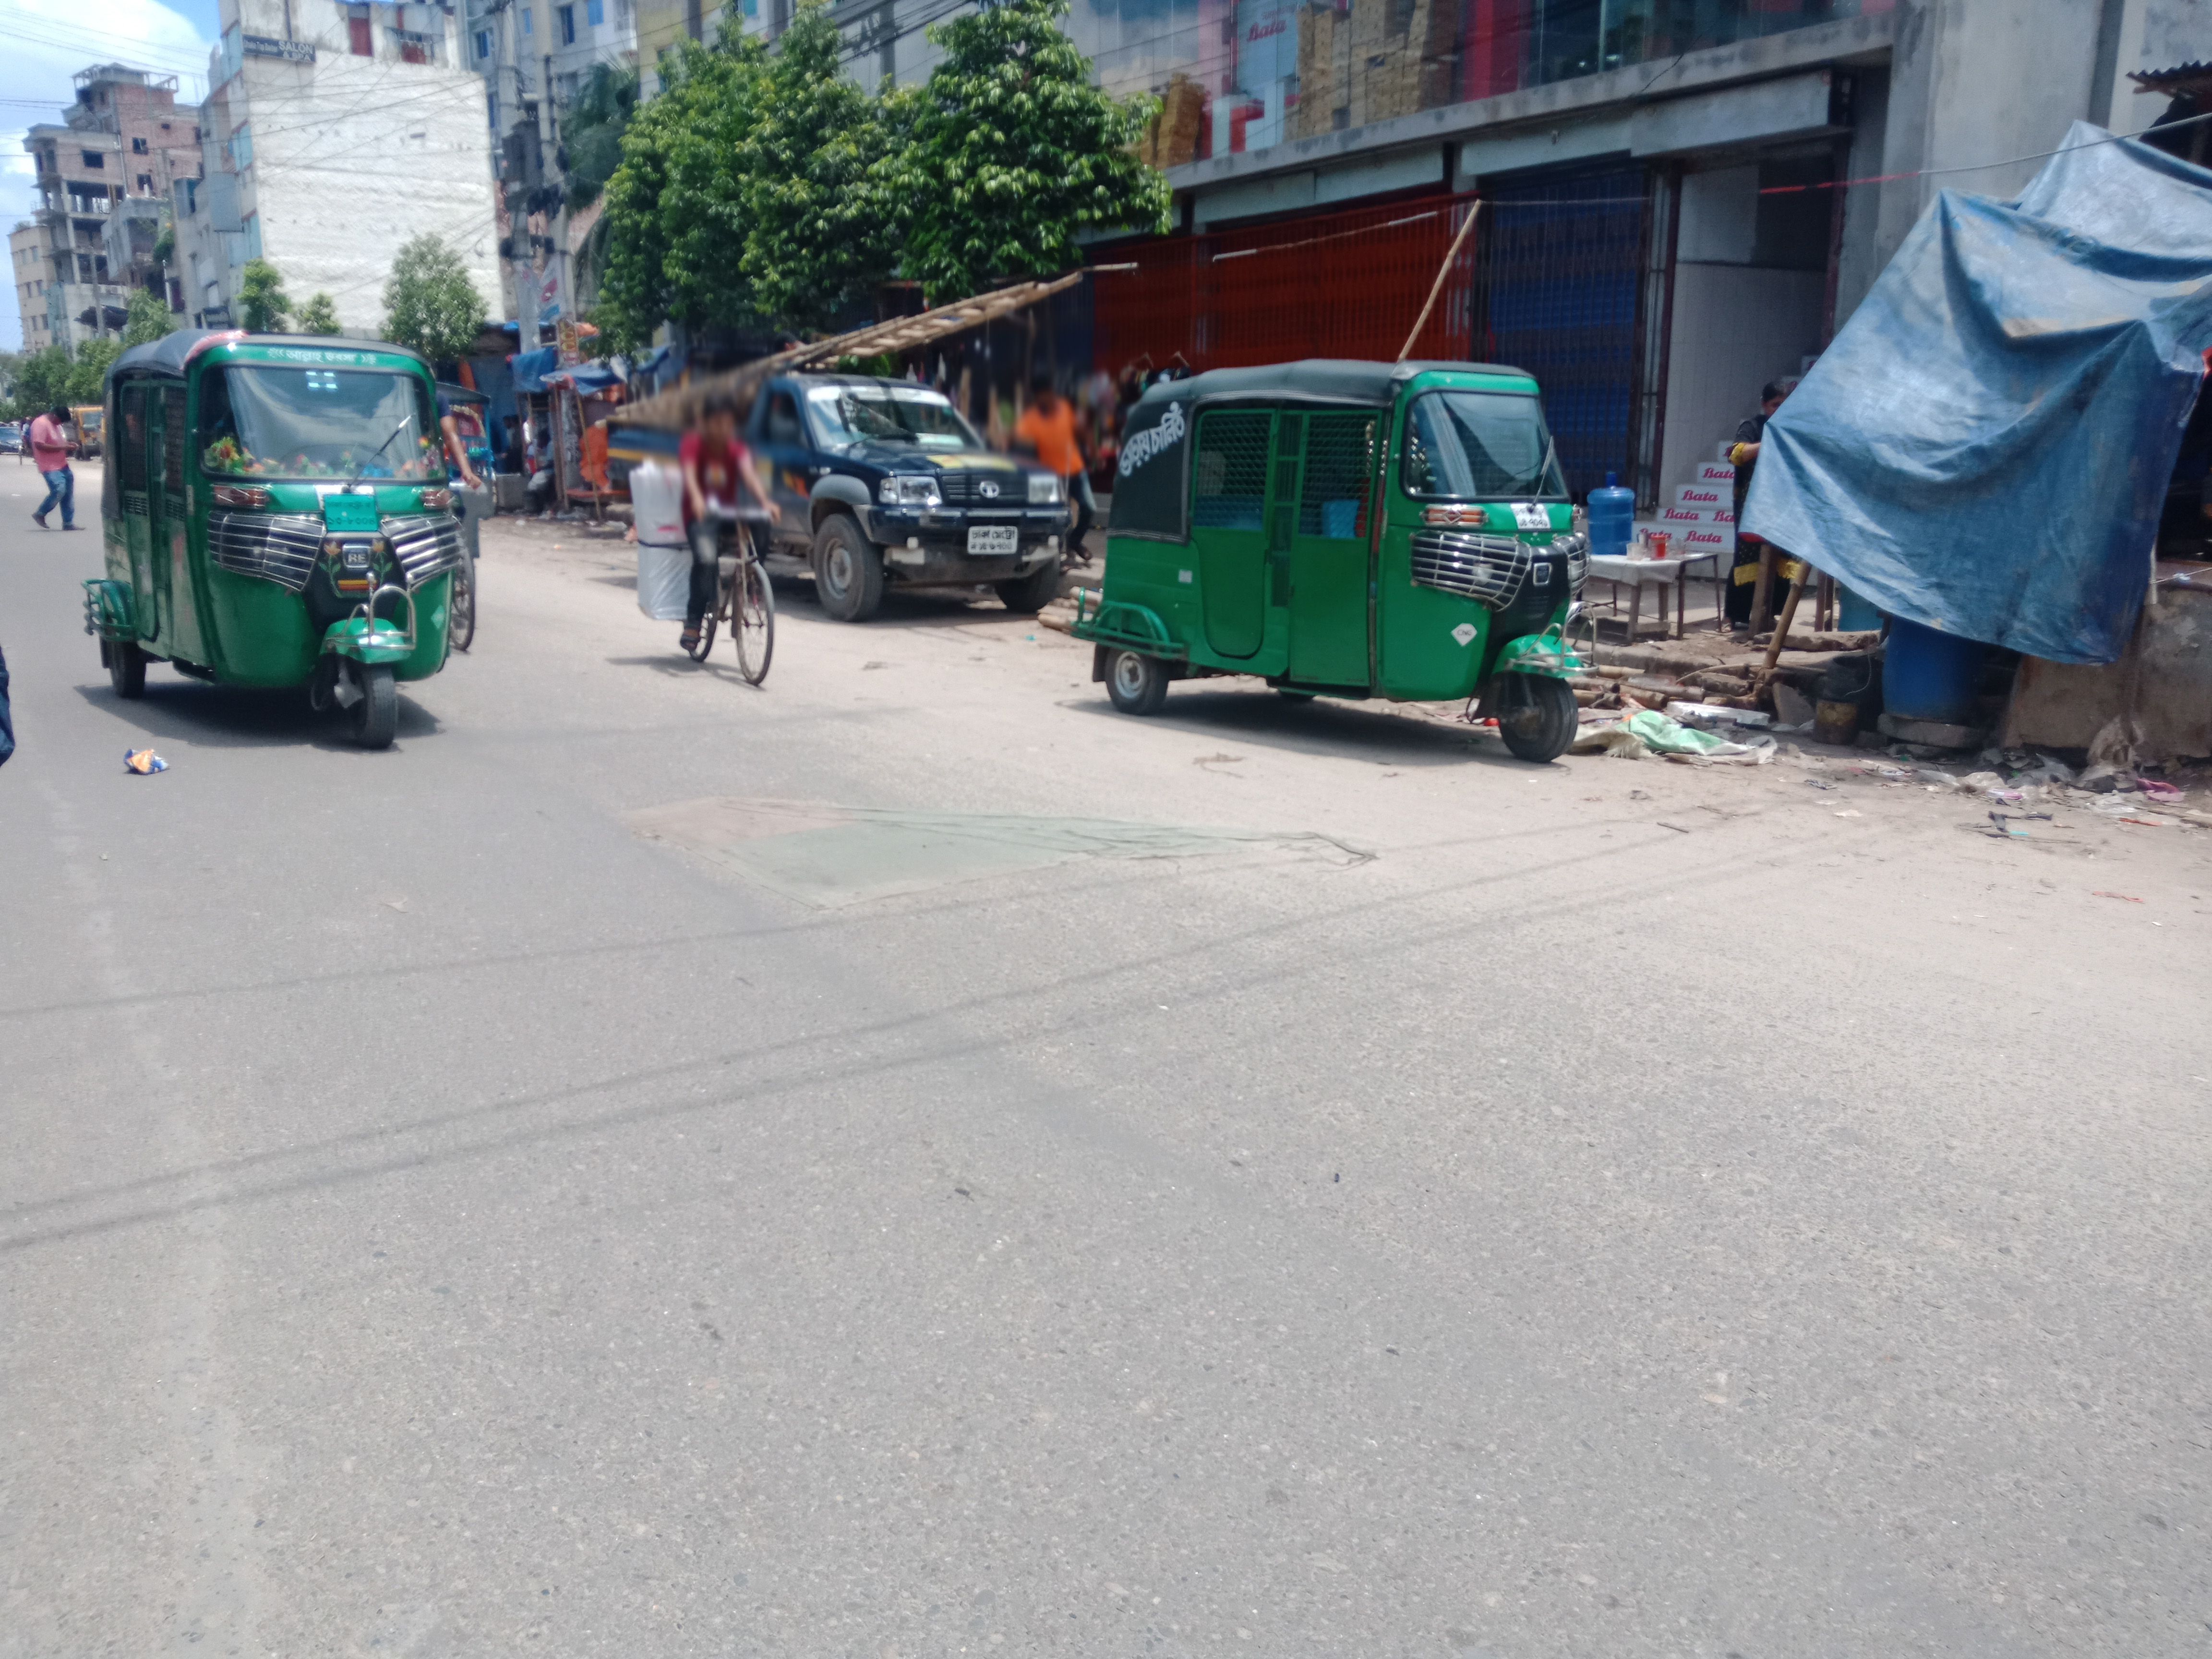bicycle: (667, 497, 786, 687)
car: (597, 366, 1073, 619)
cng: (1068, 350, 1599, 765), (75, 328, 462, 749)
rickshaw: (446, 399, 500, 512)
